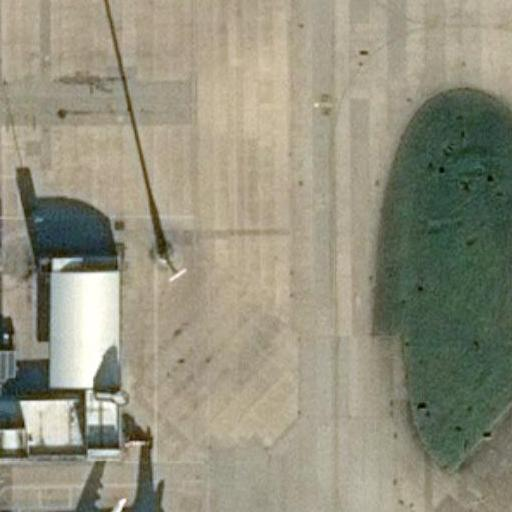Aircraft: (8, 494, 186, 512), (9, 494, 182, 512)
